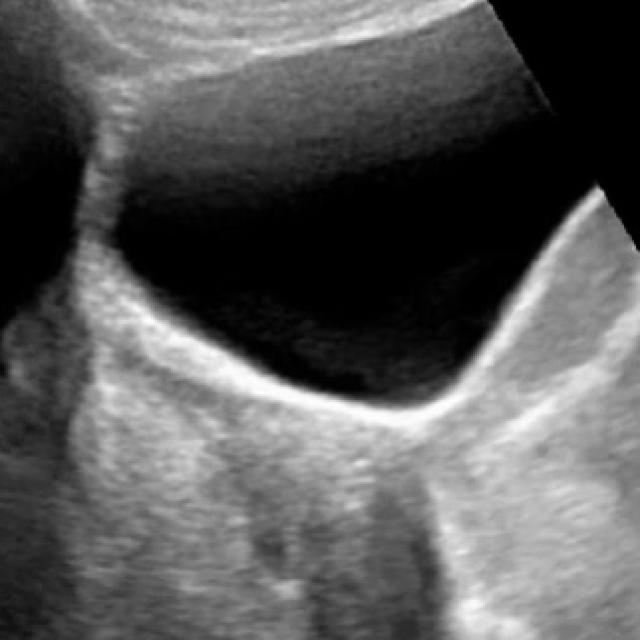bladder: (90, 2, 612, 432)
